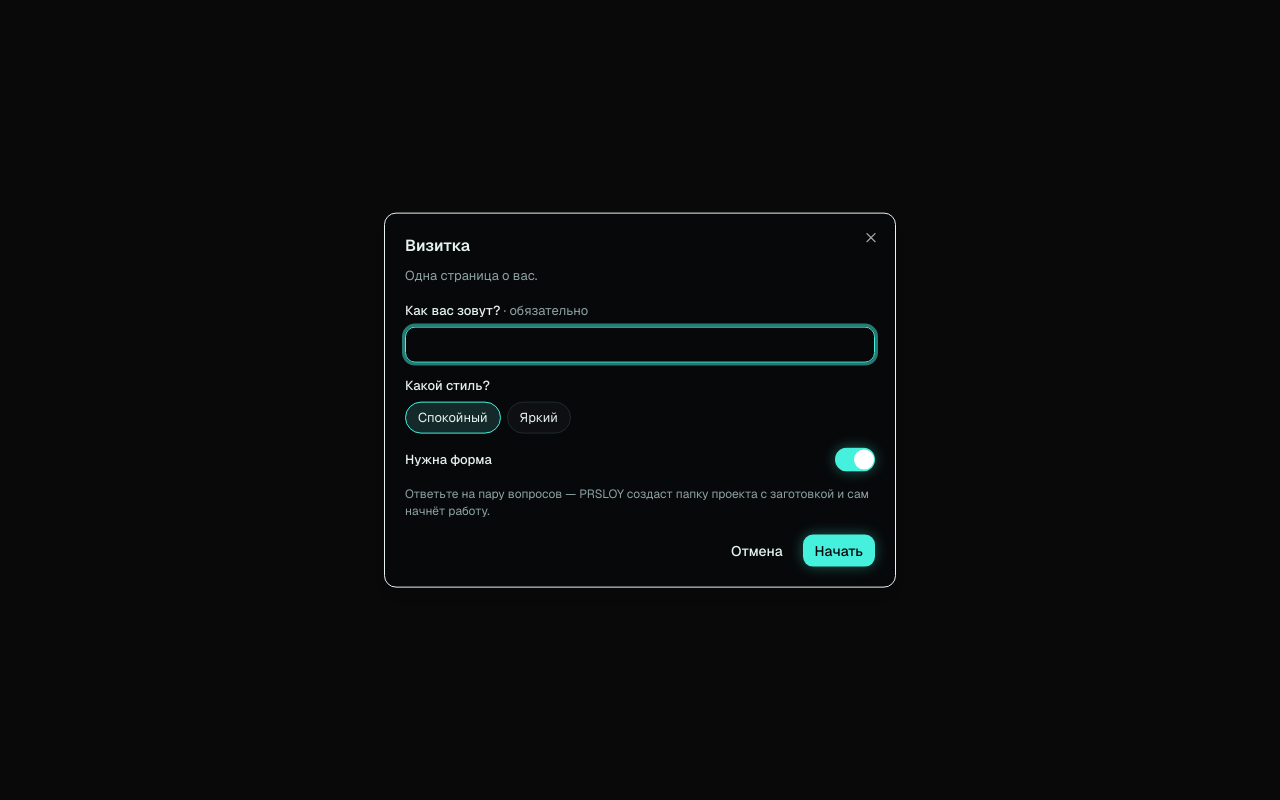
Test case: RecipeDialog › says plainly when the project could not be made
Type "Анна" into the field labelled "Как вас зовут? · обязательно" at (640, 345), box [405,327,875,363]
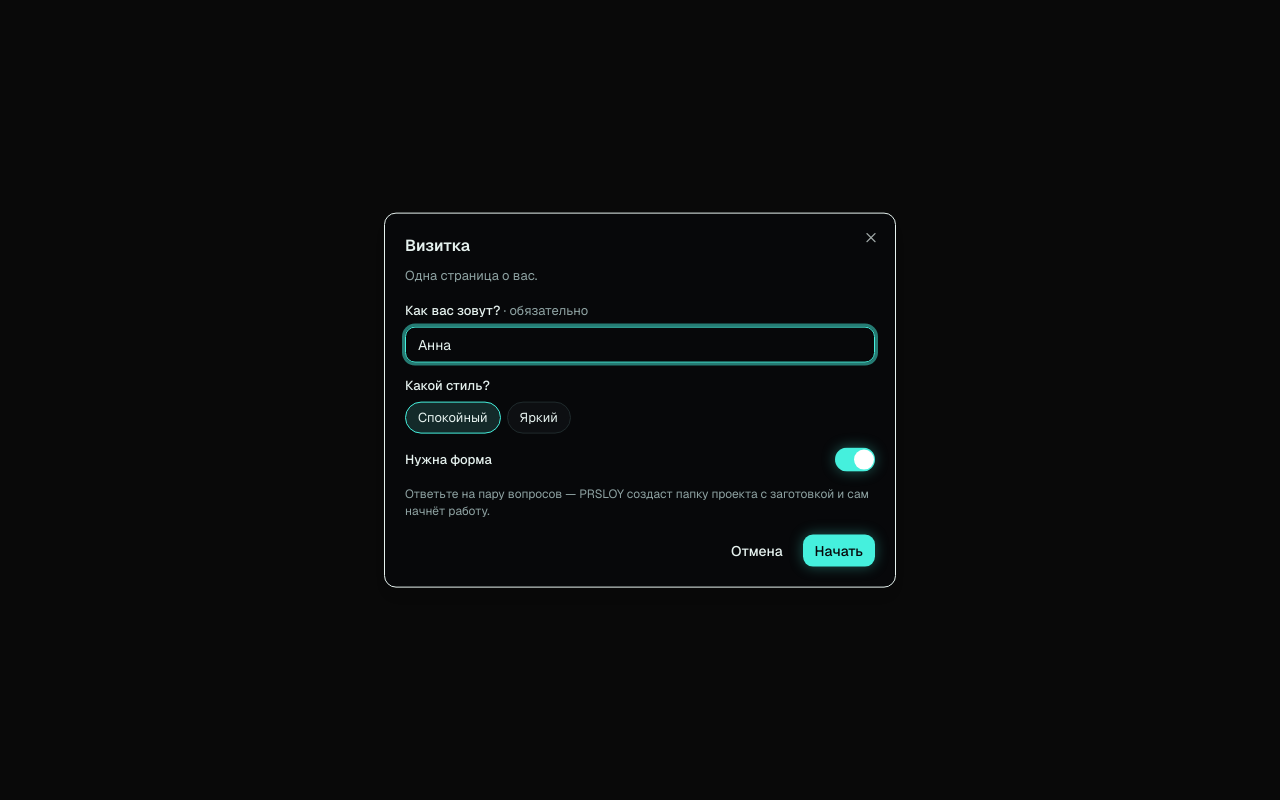
Click the button with test id "recipe-start" at (839, 550), box [803,534,875,566]
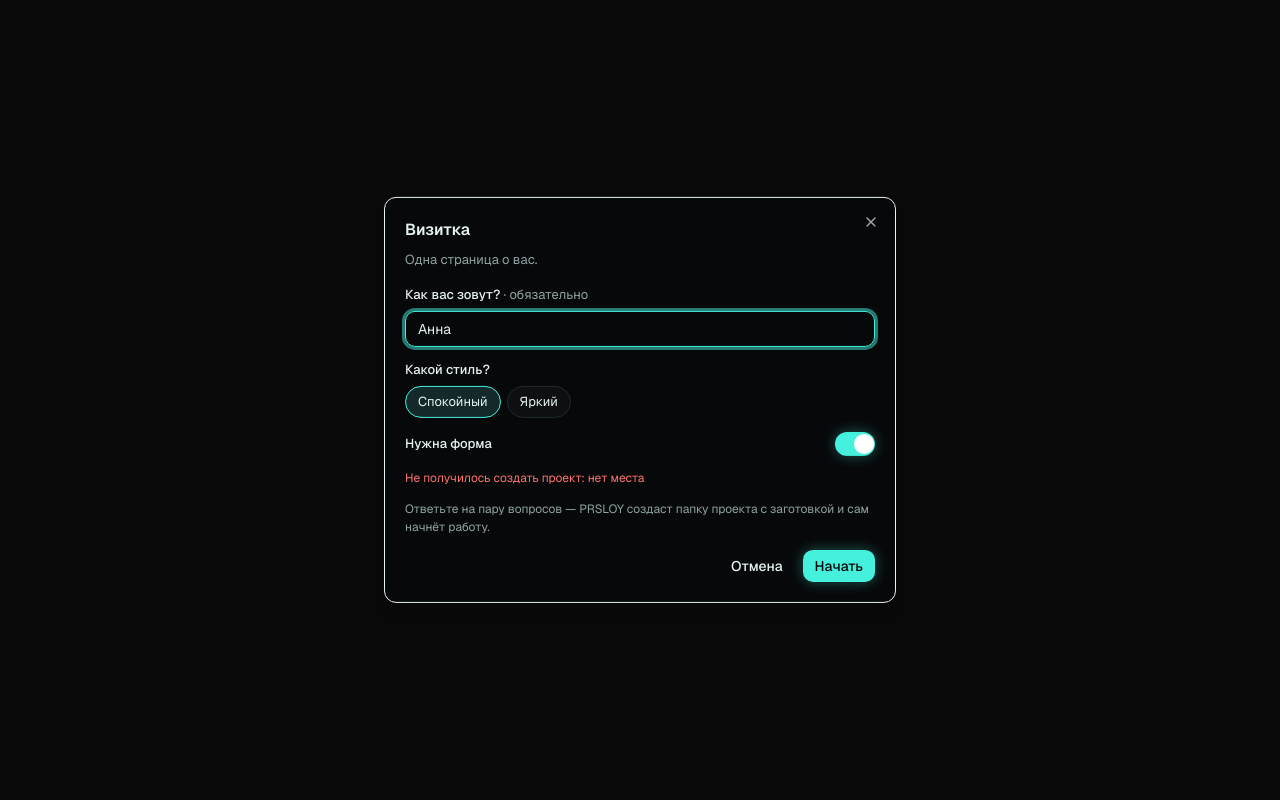
Now the message reads "Не получилось создать проект: нет места", box [405,470,644,486]
